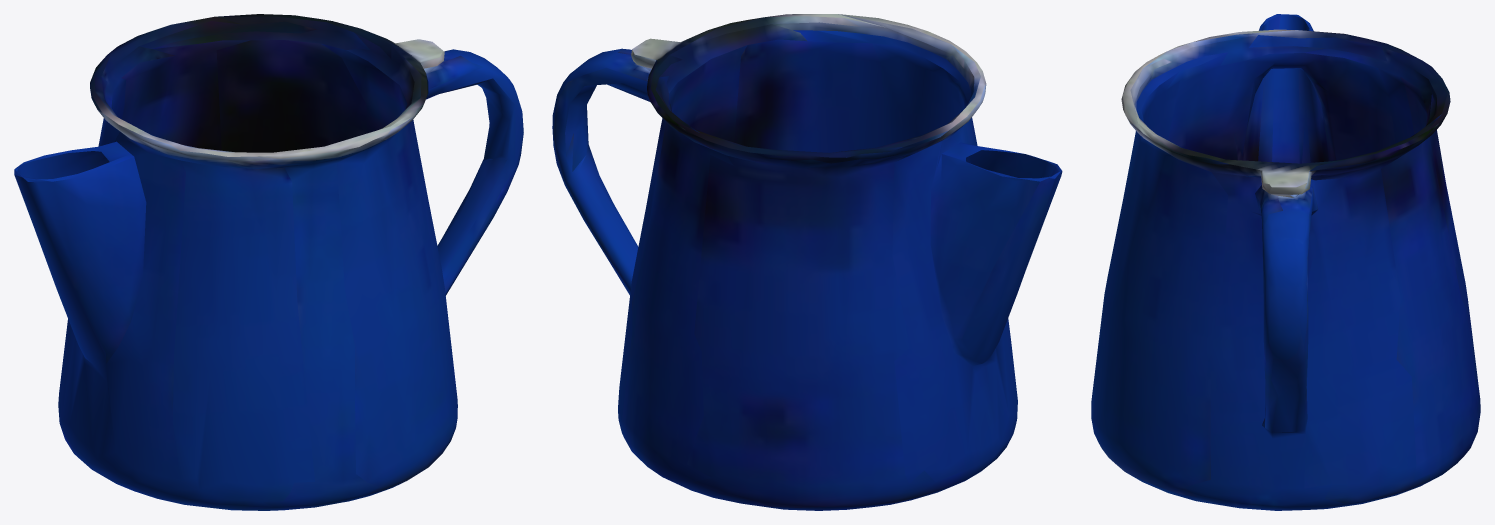
Rendered from kettle.glb.
The picture shows the model from 3 angles, left to right: view 1: azimuth 30°, elevation 25°; view 2: azimuth 150°, elevation 25°; view 3: azimuth 270°, elevation 25°; orthographic projection. The views are drawn at different scales.
Visible parts, largest first — view 1: kettle; view 2: kettle; view 3: kettle.
Boxes of the visible parts, bbox=[...] form: kettle: bbox=[14, 14, 523, 510]; kettle: bbox=[552, 14, 1062, 510]; kettle: bbox=[1091, 14, 1480, 510].
Size of the model in its own units: 0.3578 by 0.24 by 0.2487.
Materials: 1 (1 with a texture image).
